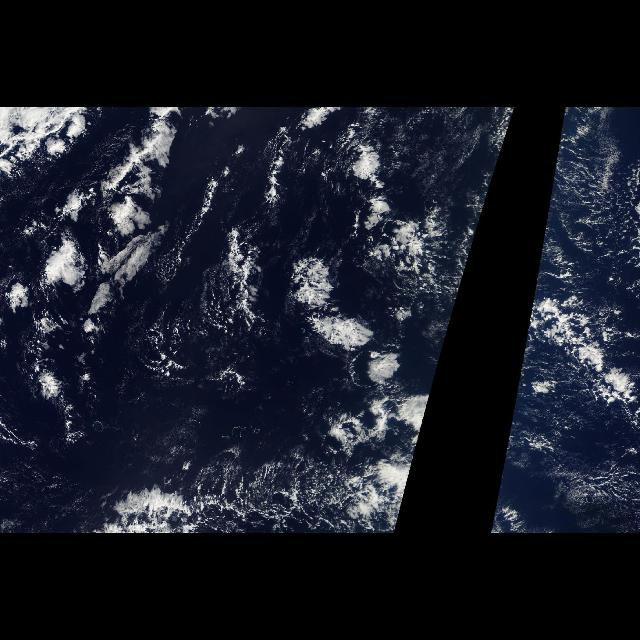Flower: (4, 119, 460, 454)
Sugar: (538, 118, 636, 294)
